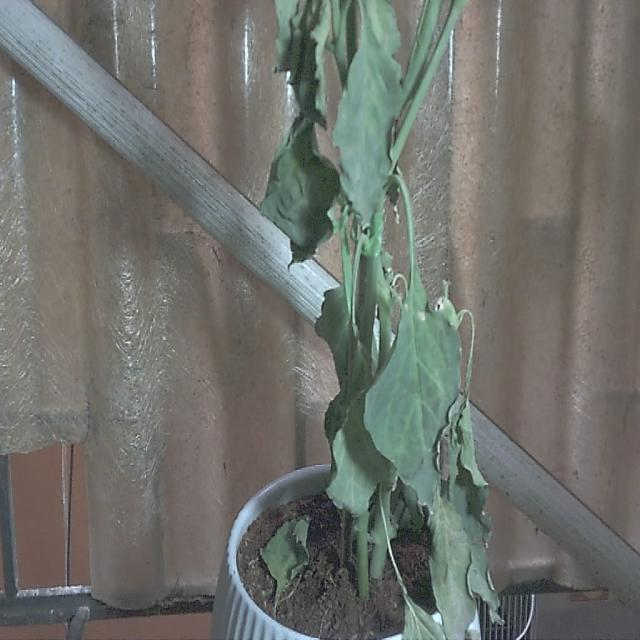Leaf: (362, 290, 456, 511), (332, 11, 405, 225), (257, 112, 341, 271), (430, 499, 480, 637), (263, 513, 311, 595)
